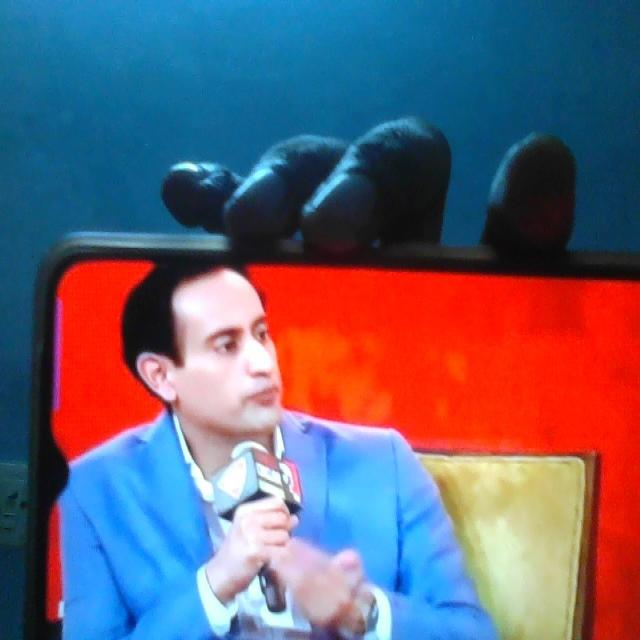fake: (166, 237, 277, 448)
